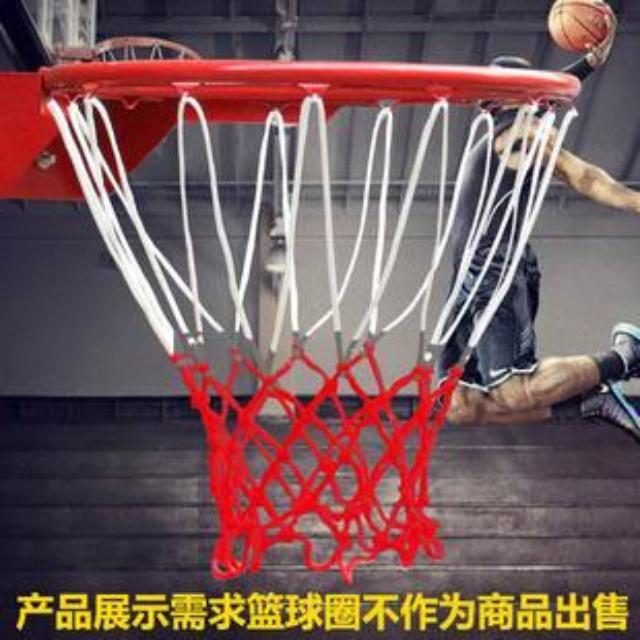rim: (43, 60, 581, 580)
